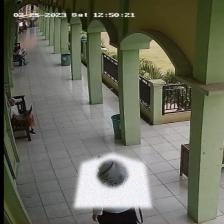Mukena: (73, 152, 152, 208)
